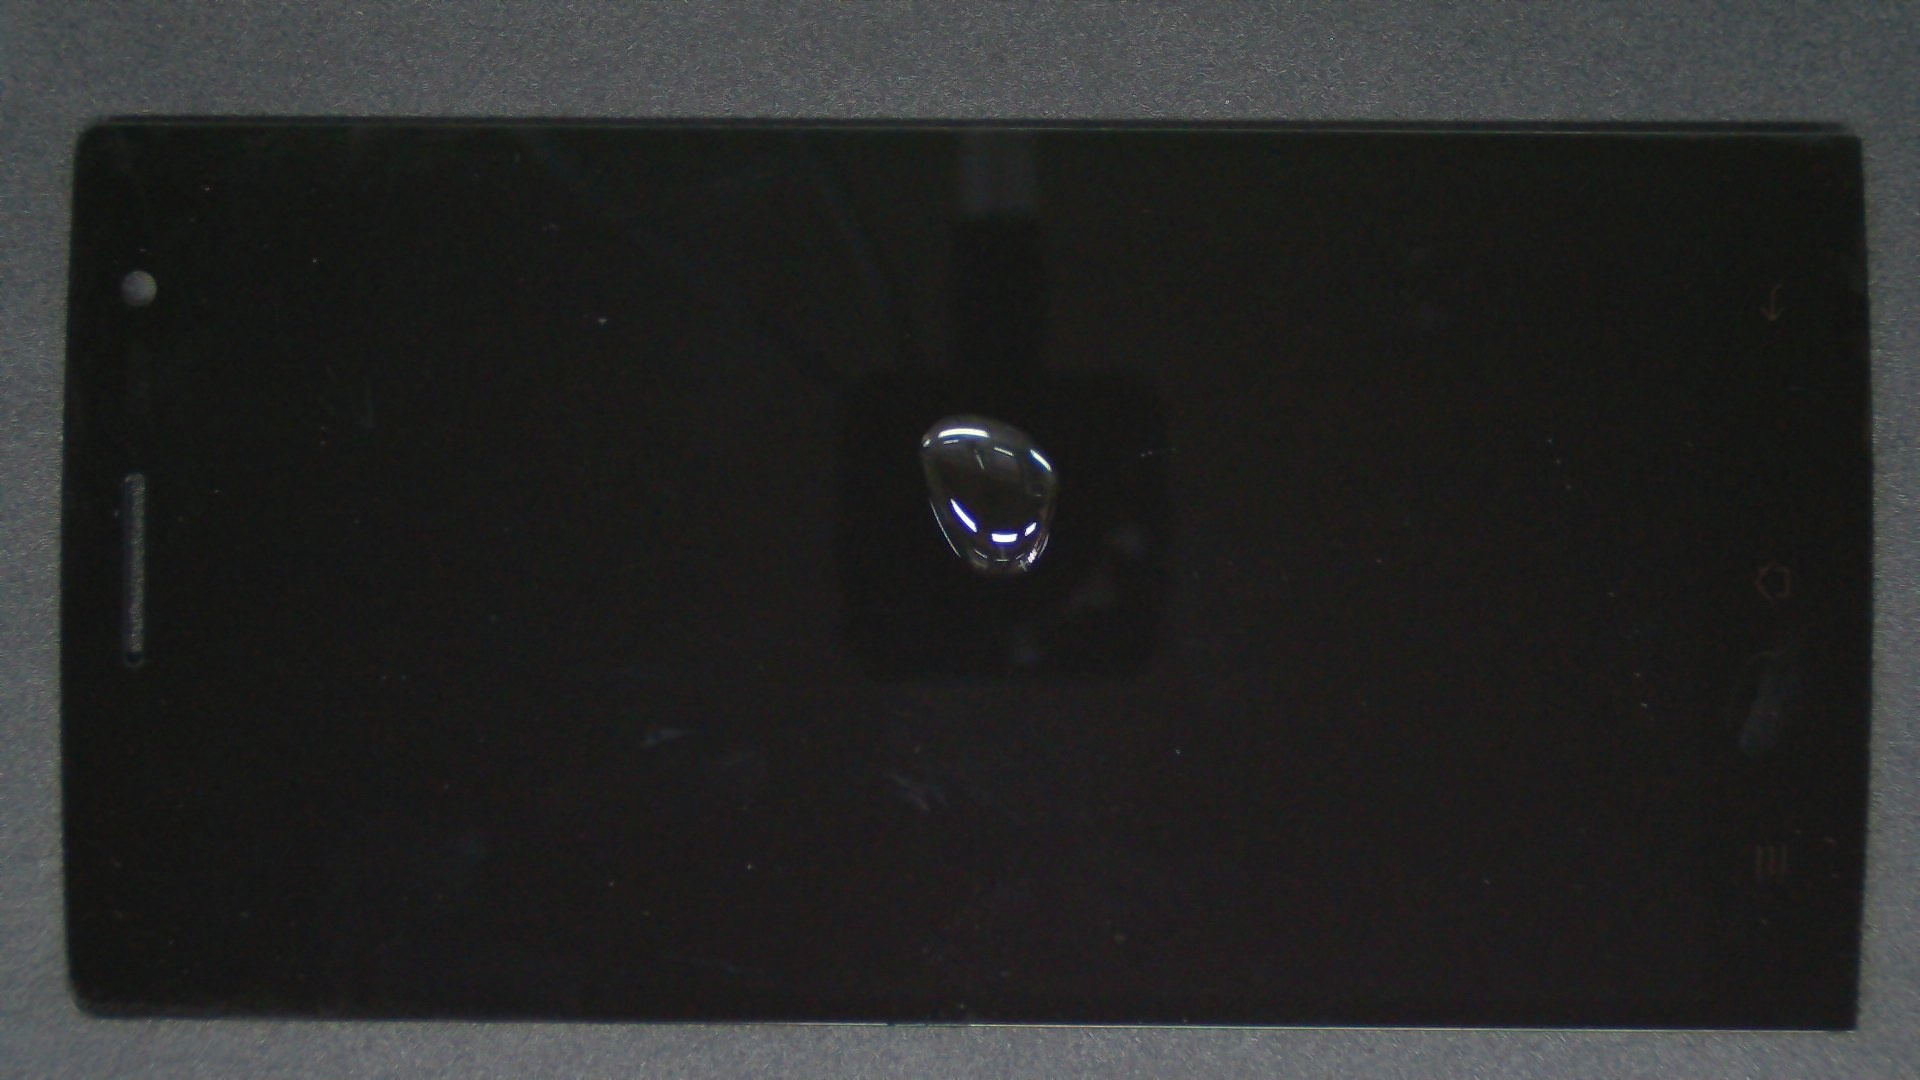oil: (477, 207, 1429, 622)
